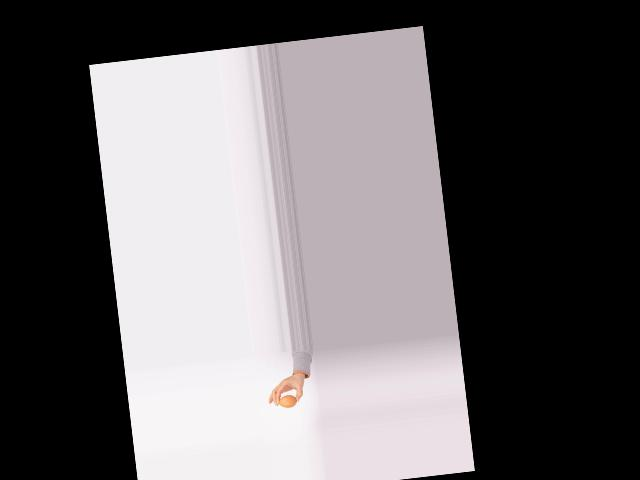egg: (278, 394, 297, 409)
